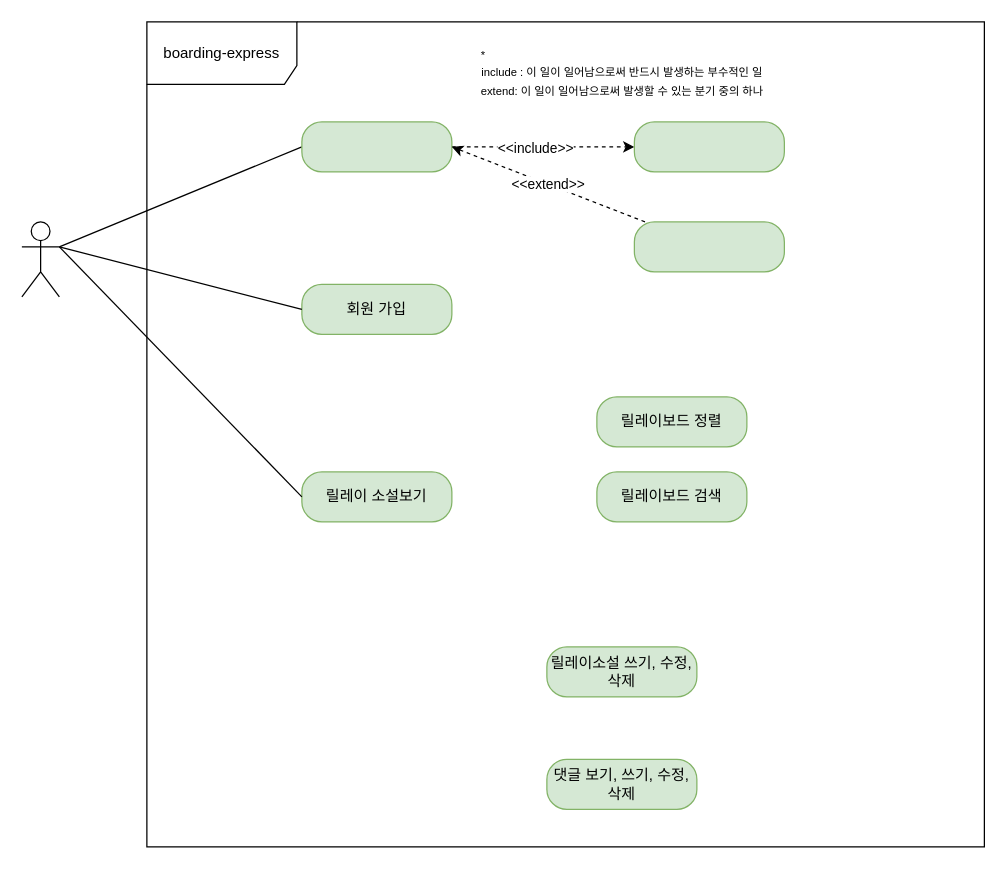
This 1006x869 diagram has some shape labels left out. Here are the shapes that lost their labels. From the top down, the box of each, then its label:
(301, 121, 452, 172): 회원 로그인
(633, 121, 784, 172): 인증
(21, 221, 59, 297): Actor
(633, 221, 784, 272): 로그인 실패
